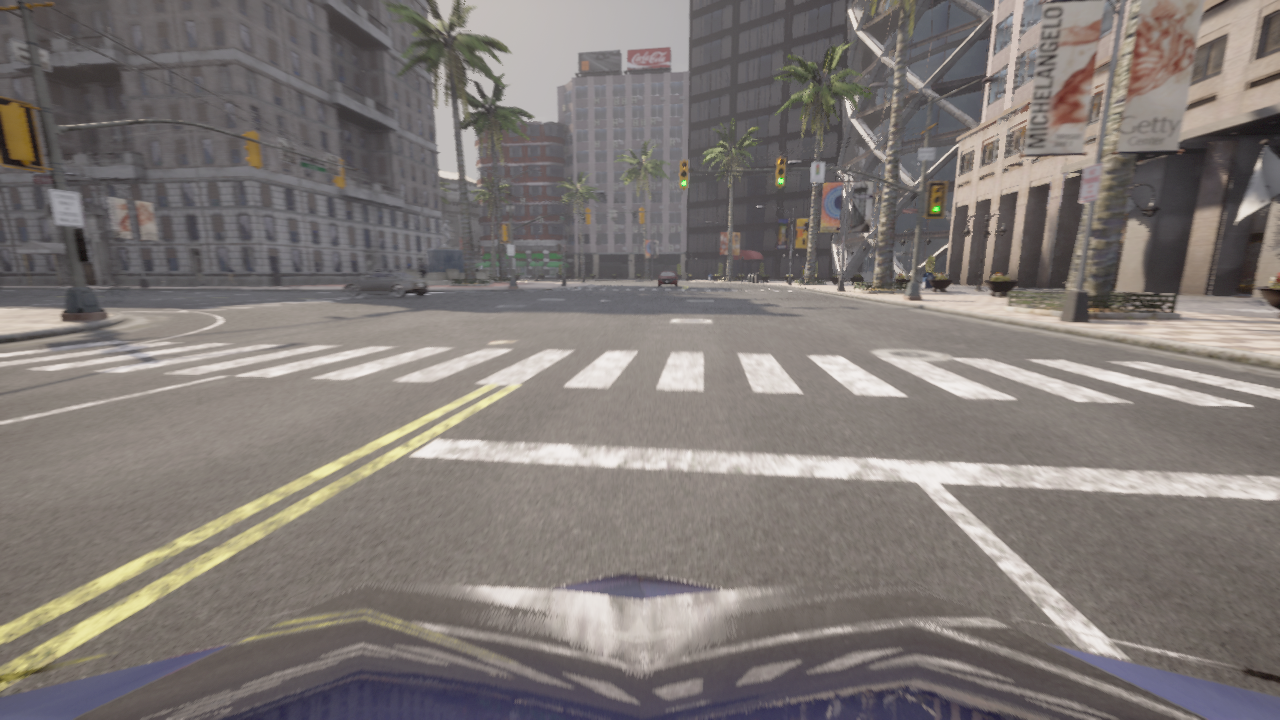cyclist: (0, 569, 1279, 719), (342, 271, 428, 297), (657, 271, 678, 286)
pedestrian: (224, 265, 236, 286), (416, 262, 427, 278), (799, 265, 805, 289)
